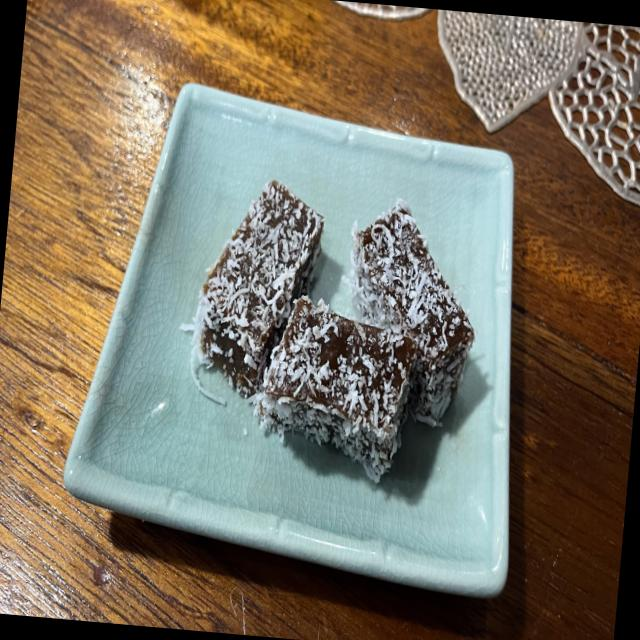kaswi: (254, 296, 415, 481), (190, 180, 323, 396), (350, 200, 474, 426)
